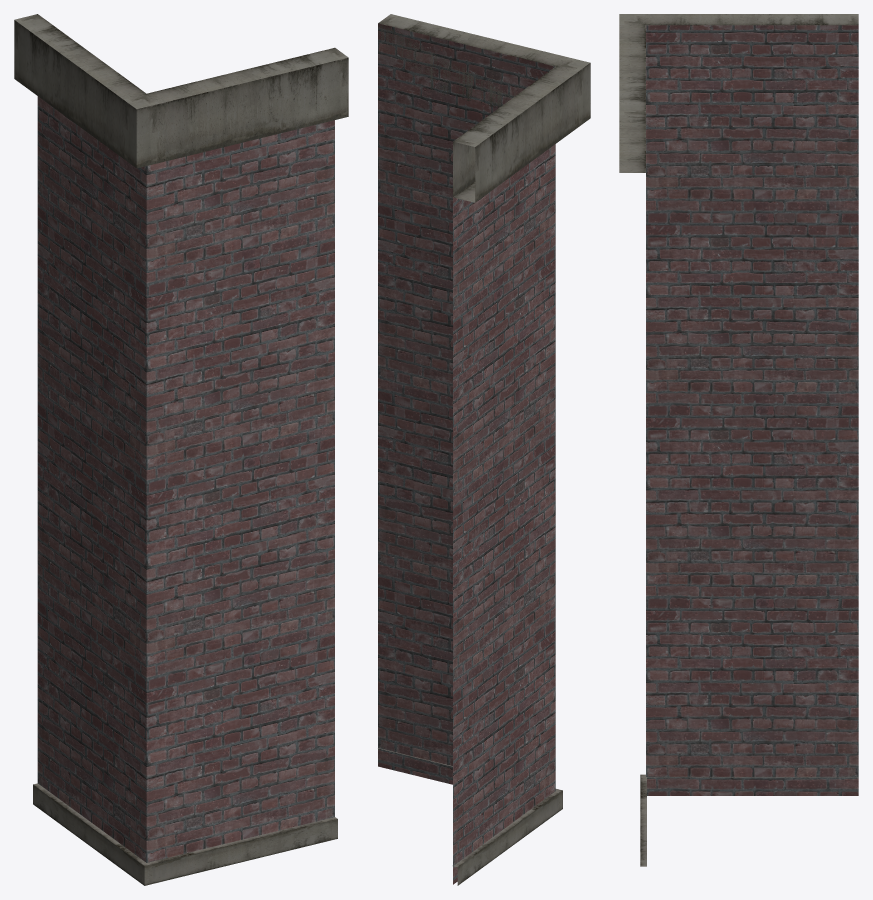
Rendered from Wall_D_Brick_CornerOut_1x.FBX.
3 renders of one model, left to right at view 1: azimuth 30°, elevation 25°; view 2: azimuth 150°, elevation 25°; view 3: azimuth 270°, elevation 25°, orthographic. The views are drawn at different scales.
Visible parts, largest first — view 1: Wall_D_Brick_CornerOut_1x; view 2: Wall_D_Brick_CornerOut_1x; view 3: Wall_D_Brick_CornerOut_1x.
Part boxes in pixels (box(x1,y1,x2,y2)): Wall_D_Brick_CornerOut_1x: box(14, 14, 348, 885); Wall_D_Brick_CornerOut_1x: box(378, 14, 590, 885); Wall_D_Brick_CornerOut_1x: box(619, 14, 858, 866).
Size of the model in its own units: 112 by 400 by 112.
